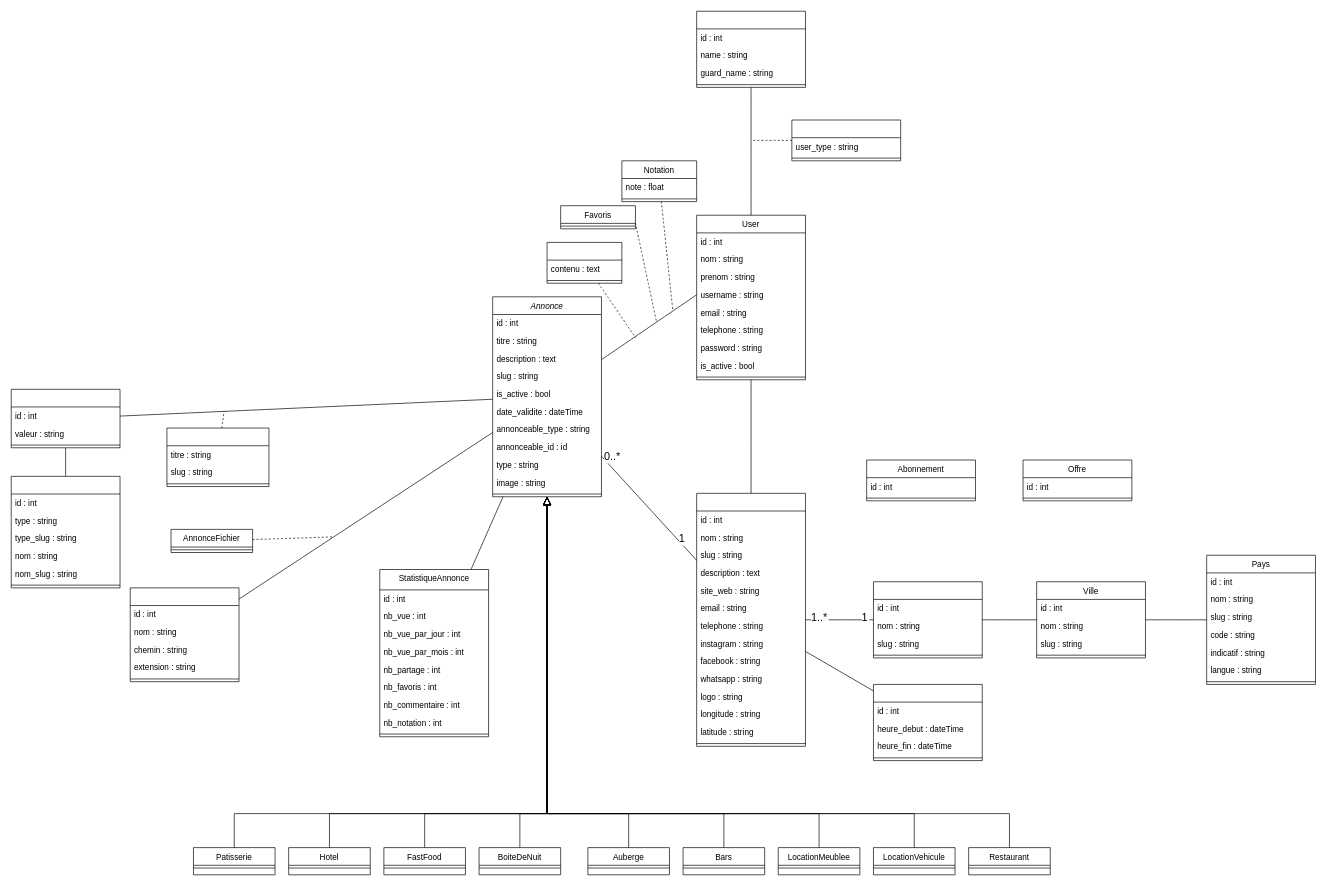
Some shapes in this 1327 by 886 pixel diagram are drawn without their labels. The shapes that lost their labels are listed below. From the top down, each one's box as (x1, y1, x2, y2) in pixels, then its label:
(696, 11, 805, 87): Role
(791, 119, 901, 161): UserHasRole
(546, 242, 622, 283): Commentaire
(11, 389, 120, 448): ReferenceValeur
(166, 427, 269, 487): AnnonceReferenceValeur
(11, 476, 120, 588): Reference
(130, 587, 239, 682): Fichier
(696, 493, 805, 746): Entreprise
(873, 581, 982, 658): Quartier
(873, 684, 982, 761): Ouverture
